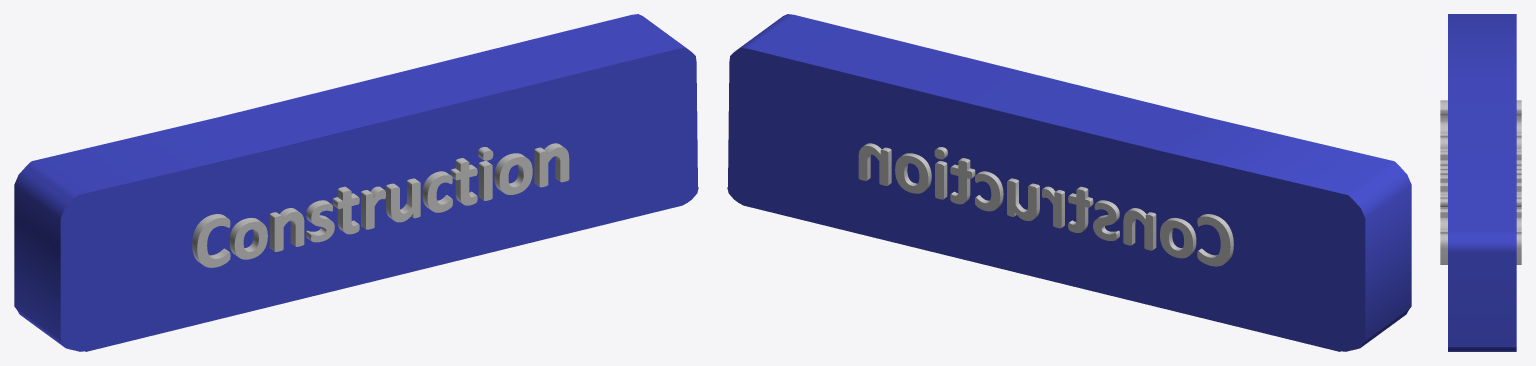
Rendered from Constmodel.fbx.
3 views of the same model, side by side, from view 1: azimuth 30°, elevation 25°; view 2: azimuth 150°, elevation 25°; view 3: azimuth 270°, elevation 25° (orthographic). The views are drawn at different scales.
Visible parts, largest first — view 1: root, node_id81; view 2: root, node_id81; view 3: root, node_id81.
Boxes of the visible parts, x1,y1,x2,y2 form: root: (14,14,698,351); node_id81: (192,143,569,267); root: (727,14,1411,351); node_id81: (858,143,1233,266); root: (1448,14,1516,351); node_id81: (1440,100,1521,264).
Bounding box in the file's own units: 0.4177 × 0.0993 × 0.0621.
